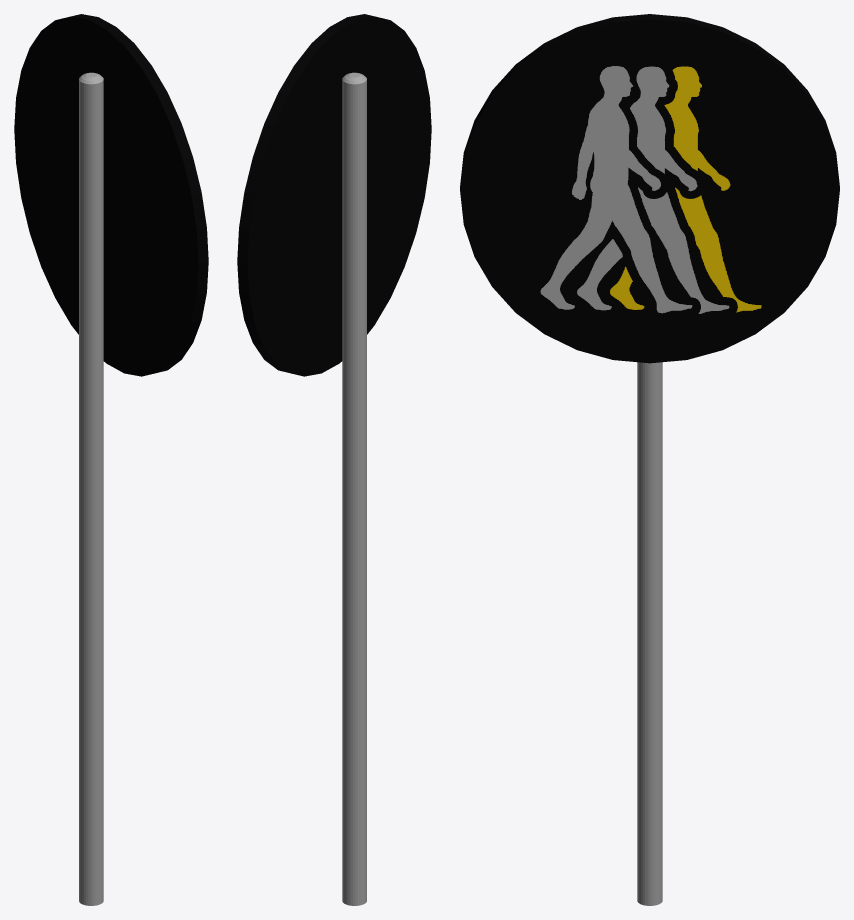
The model's file is future_pannel.glb.
3 views of the same model, side by side, from view 1: azimuth 30°, elevation 25°; view 2: azimuth 150°, elevation 25°; view 3: azimuth 270°, elevation 25° (orthographic). The views are drawn at different scales.
Parts seen in each view (by area): view 1: Cylinder.001; view 2: Cylinder.001; view 3: Cylinder.001.
Boxes of the visible parts, x1=… form: Cylinder.001: x1=14, y1=14, x2=208, y2=905; Cylinder.001: x1=237, y1=14, x2=431, y2=905; Cylinder.001: x1=460, y1=14, x2=839, y2=905.
Bounding box in the file's own units: 0.7801 × 17.98 × 6.92.
2 materials, 1 textured.
